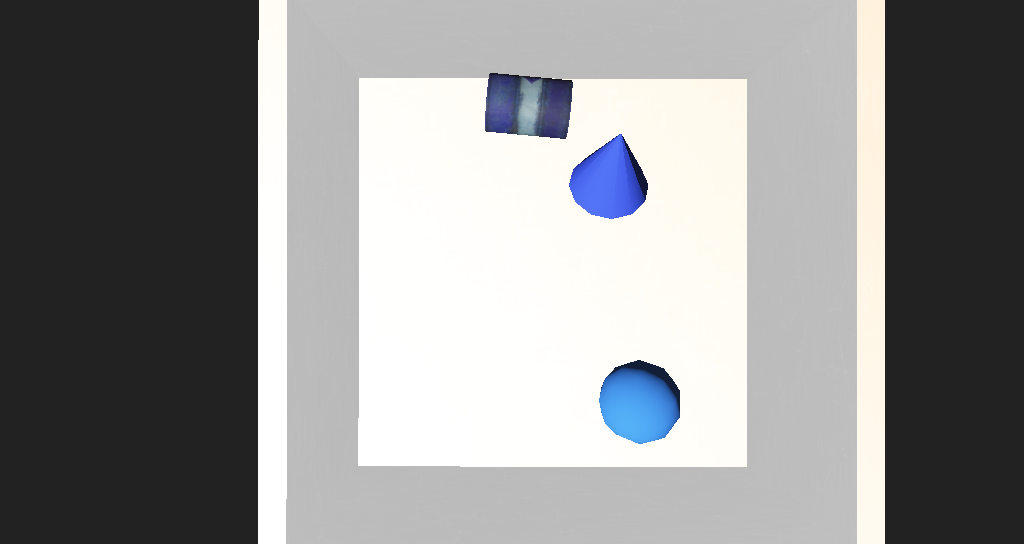cone: (451, 157, 519, 196)
cylinder: (519, 172, 586, 239)
sphere: (542, 317, 603, 360)
